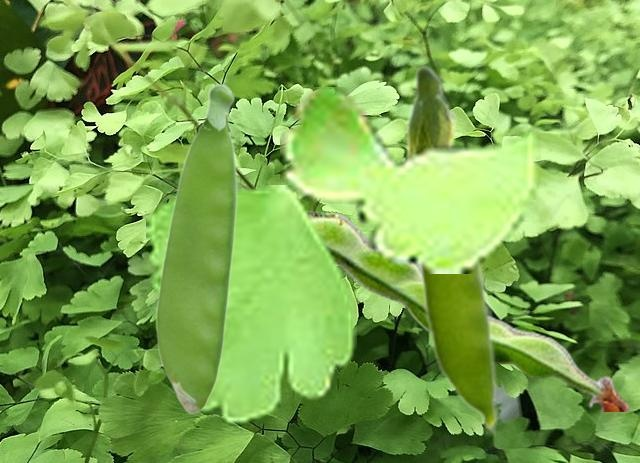pea: (313, 213, 630, 410), (404, 62, 500, 435), (155, 82, 237, 413)
